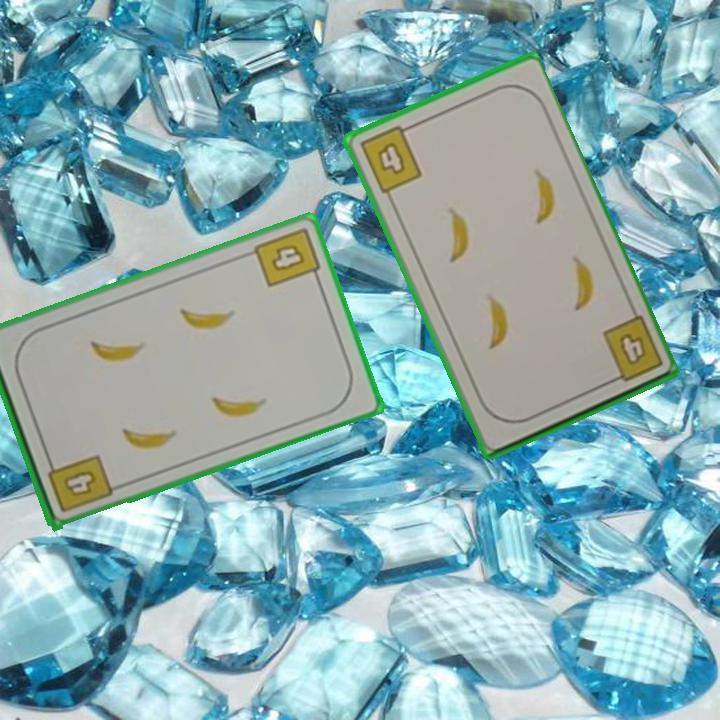4b: (355, 121, 425, 197), (598, 312, 666, 387), (250, 223, 324, 290), (44, 450, 115, 516)
